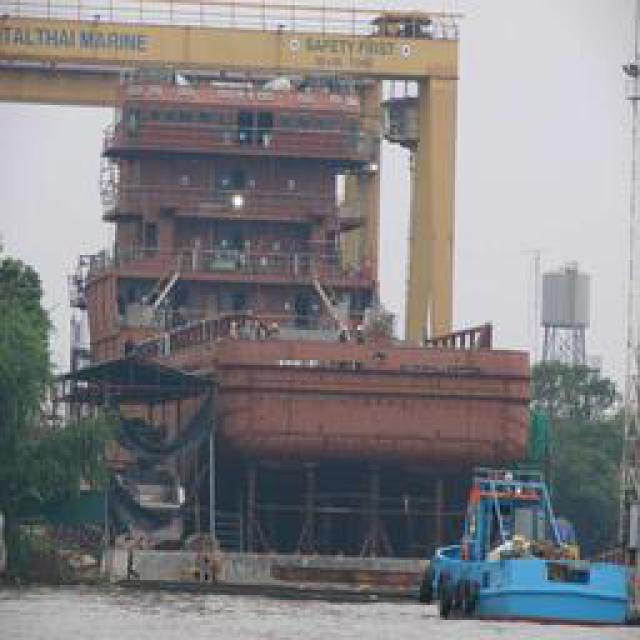Ship: (427, 459, 630, 629)
